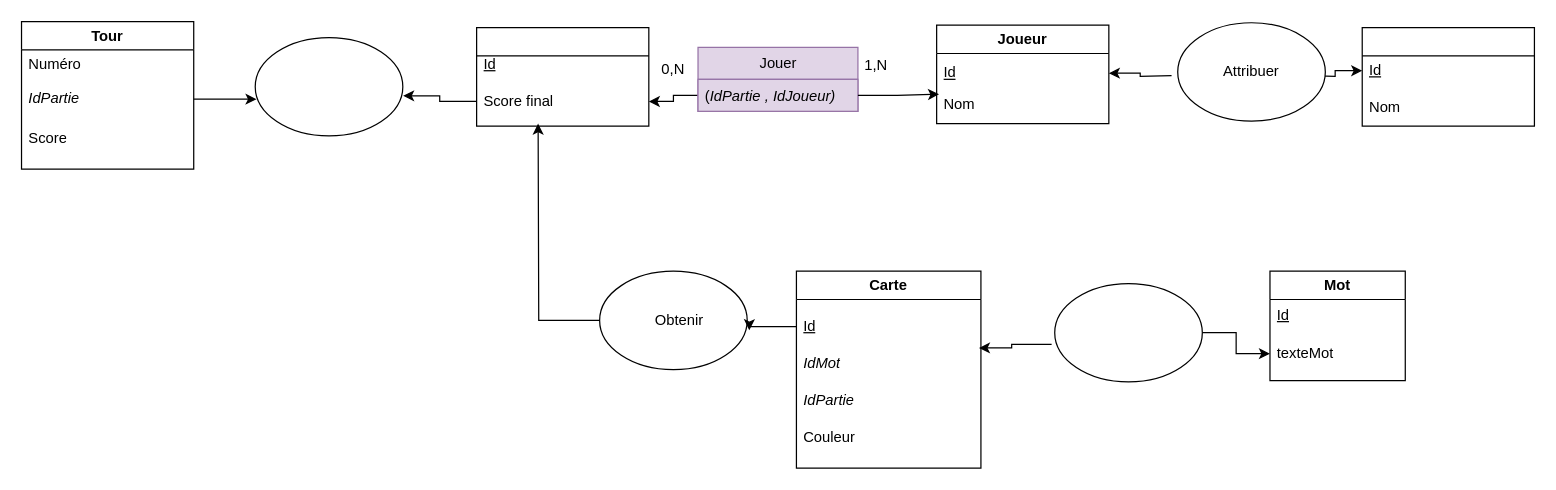
The diagram is 1556 pixels wide and 490 high, and some of its shapes have lost their labels. The box of each missing label's shape, as (x1, y1, x2, y2) in pixels:
Appartenir: (254, 36, 403, 136)
Contenir: (1053, 282, 1202, 382)
Partie: (475, 26, 649, 126)
Role: (1361, 26, 1534, 126)
